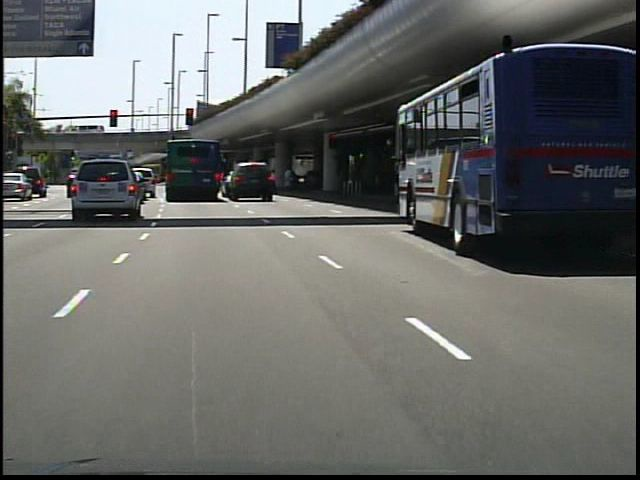person: (280, 161, 300, 198)
